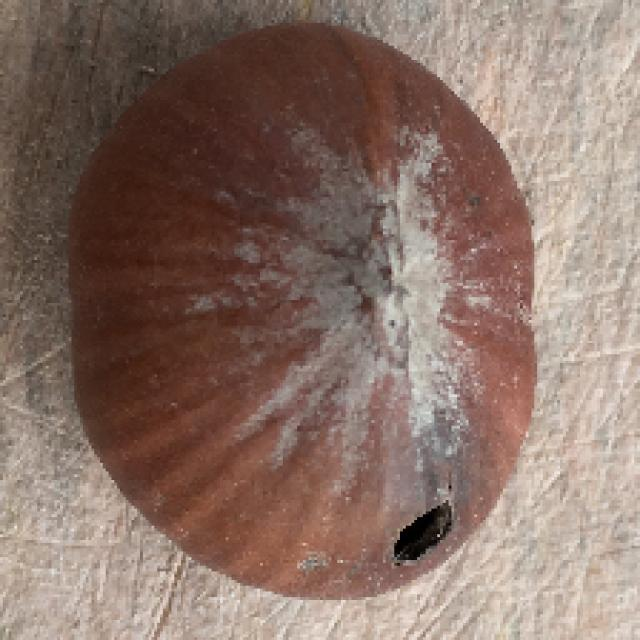damagedHazelnut: (63, 28, 538, 600)
